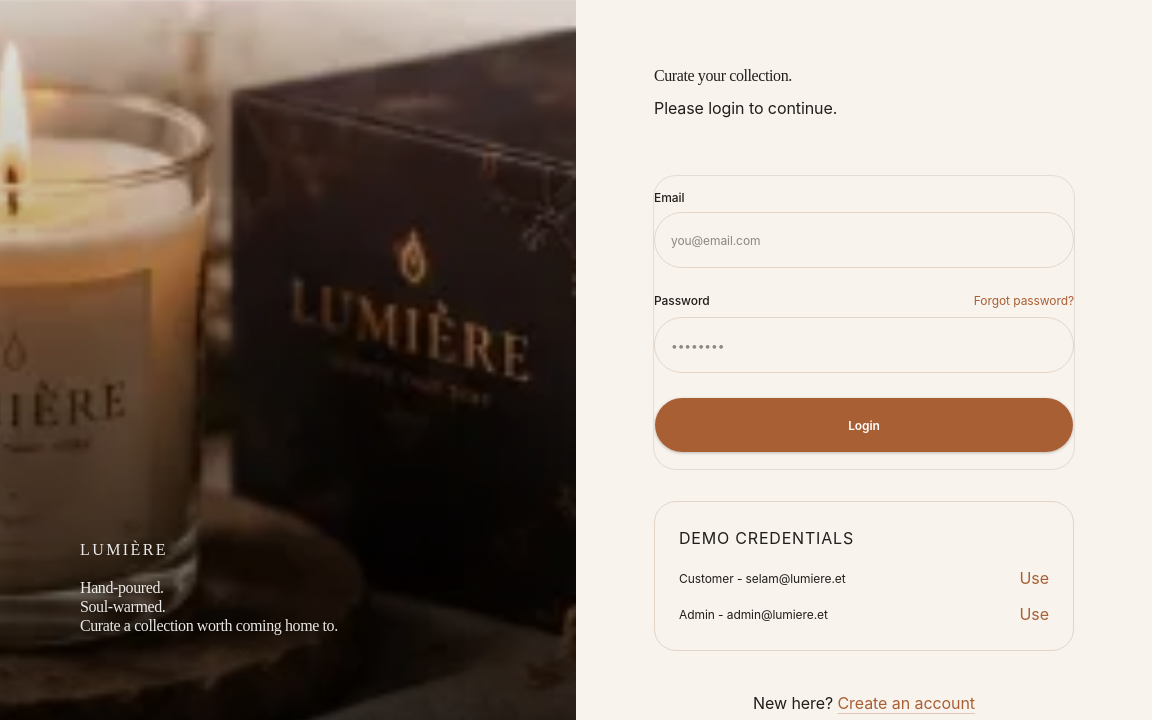
Test case: LoginPage › shows a generic root-level error on failure, with no field-specific styling on email/password
This screenshot has width=1152, height=720.
Step 1. Type "jane@example.com" into the field labelled "Email" → (864, 240), box x1=654 y1=212 x2=1074 y2=268
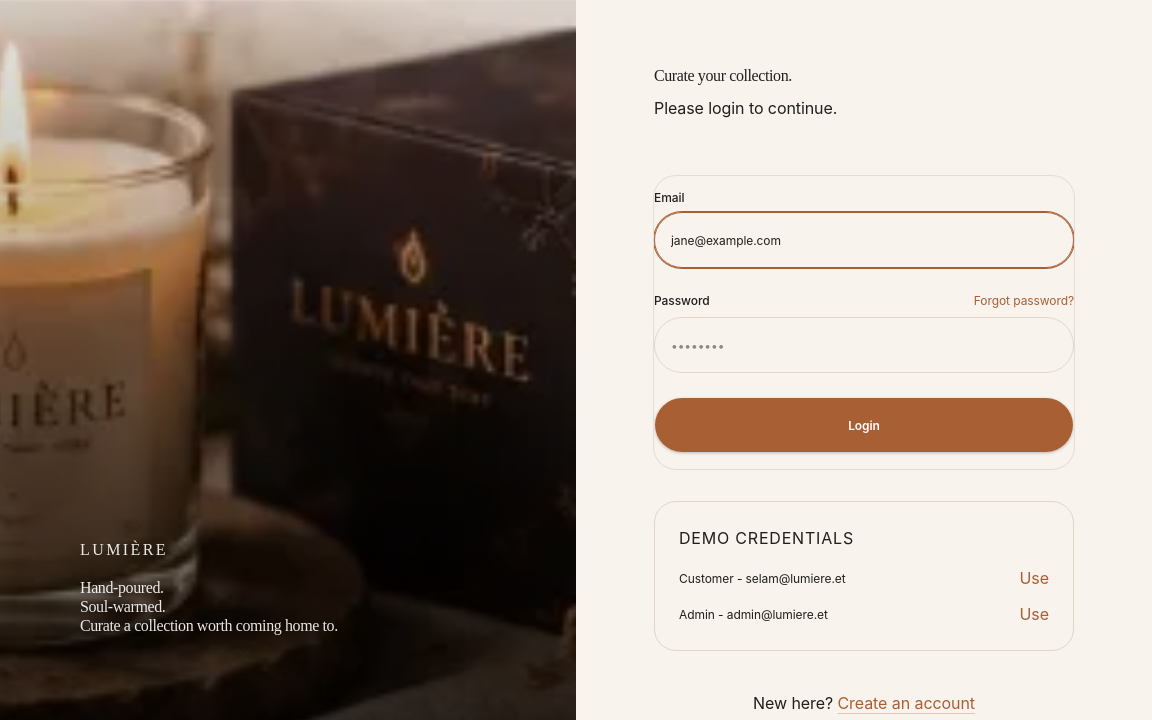
Step 2. Type "wrongpassword" into the password field labelled "Password" → (864, 345), box x1=654 y1=317 x2=1074 y2=373
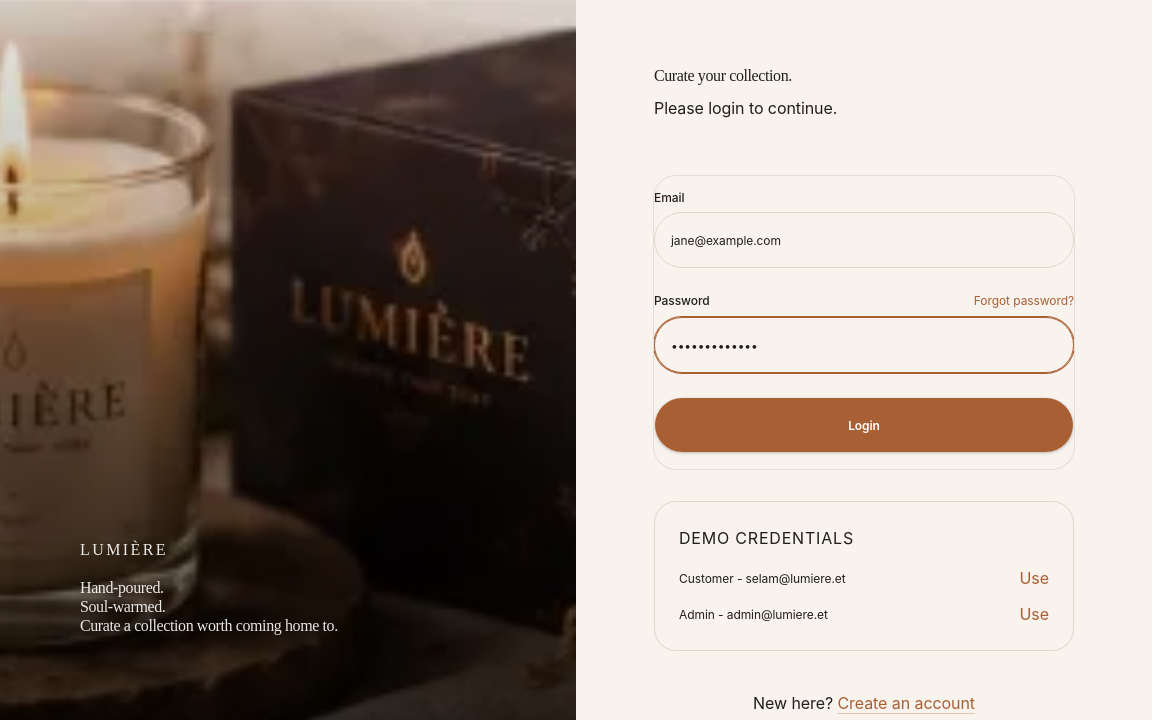
Step 3. Click the button "Login" → (864, 425), box x1=654 y1=397 x2=1074 y2=453
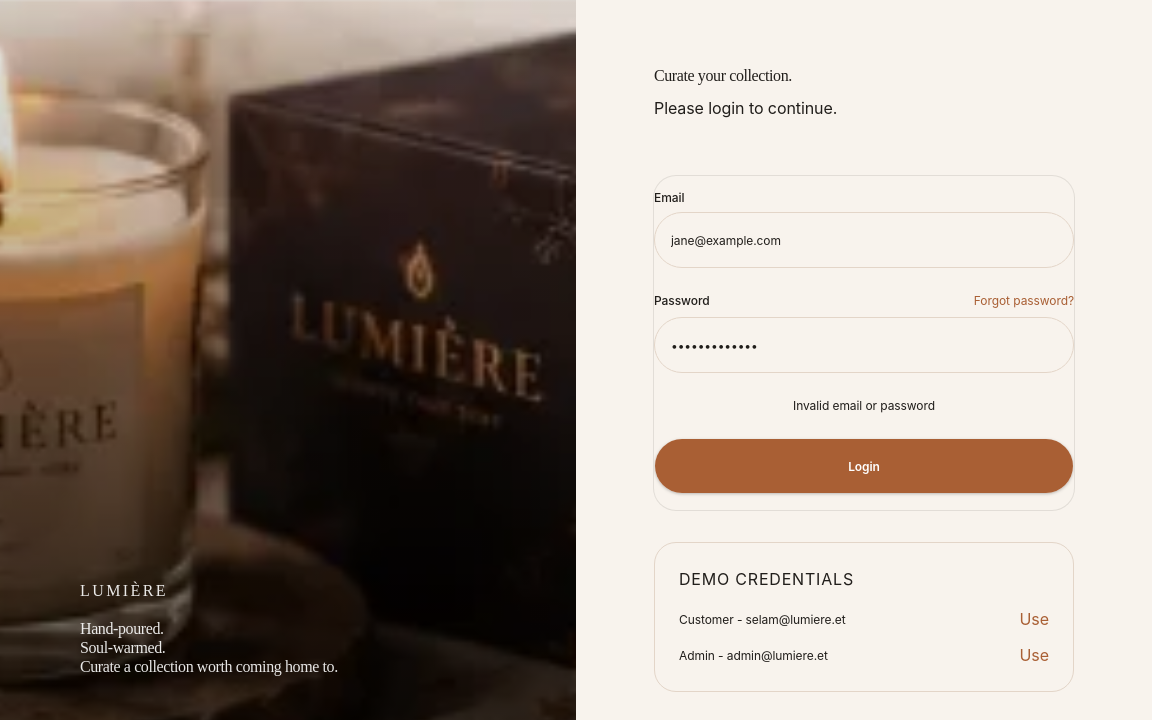
Expected: the text "Invalid email or password" is shown, x1=793 y1=398 x2=935 y2=413
